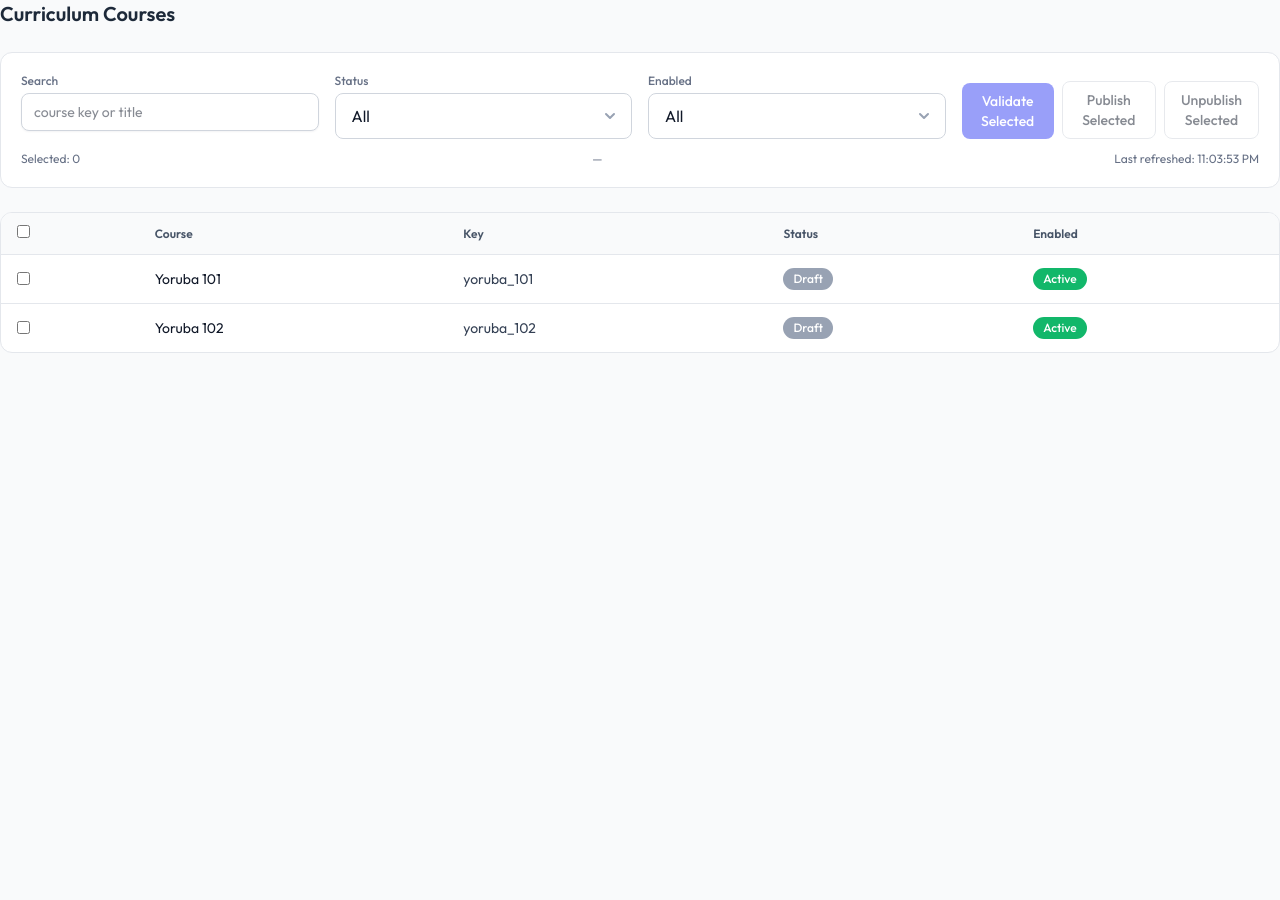
Test case: CurriculumCoursesListPage › requires confirmation before bulk publish, and shows blocked outcomes
Step 1. Click the checkbox named "Select course Yoruba 101" → (24, 278), box [17, 272, 30, 285]
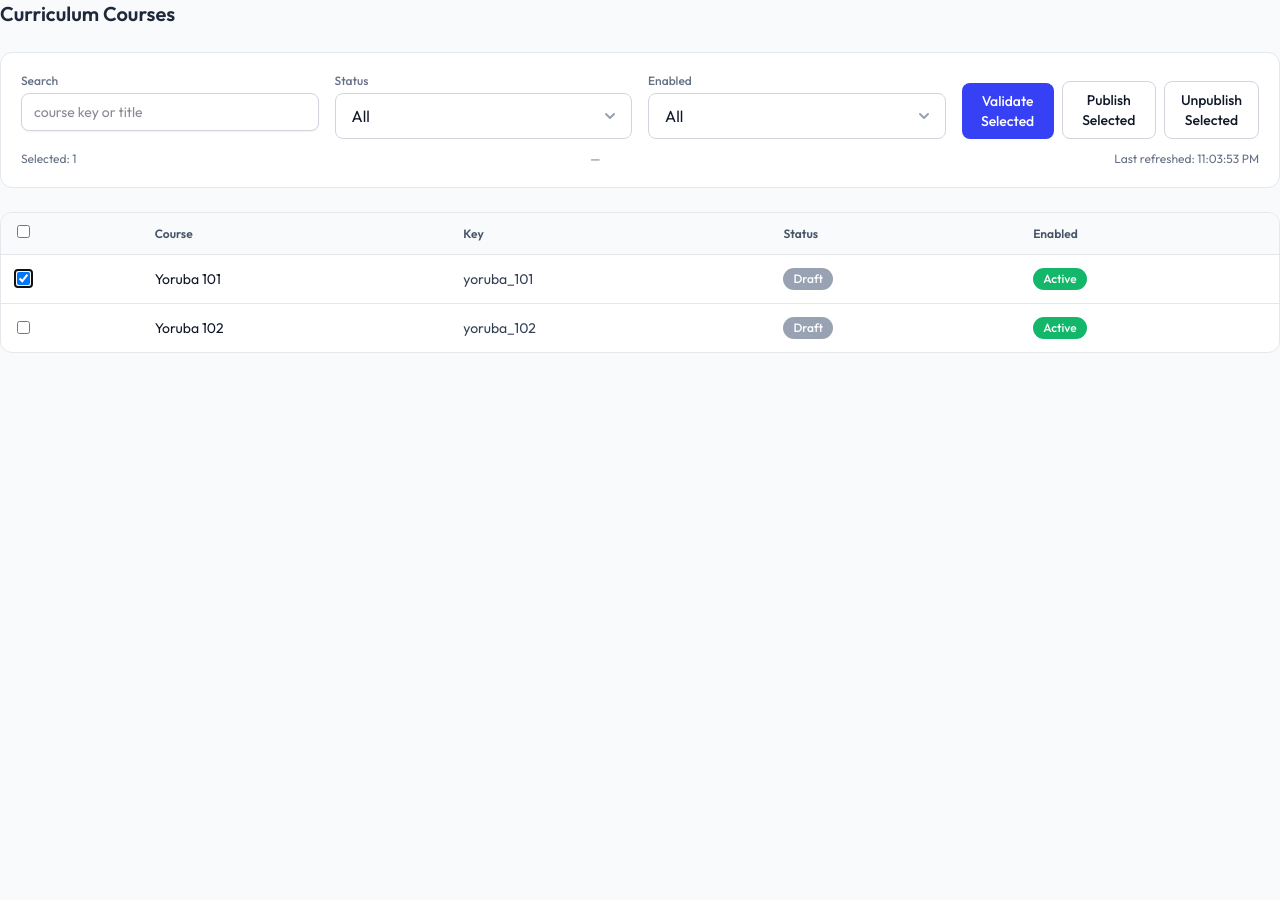
Step 2. Click the checkbox named "Select course Yoruba 102" → (24, 328), box [17, 321, 30, 334]
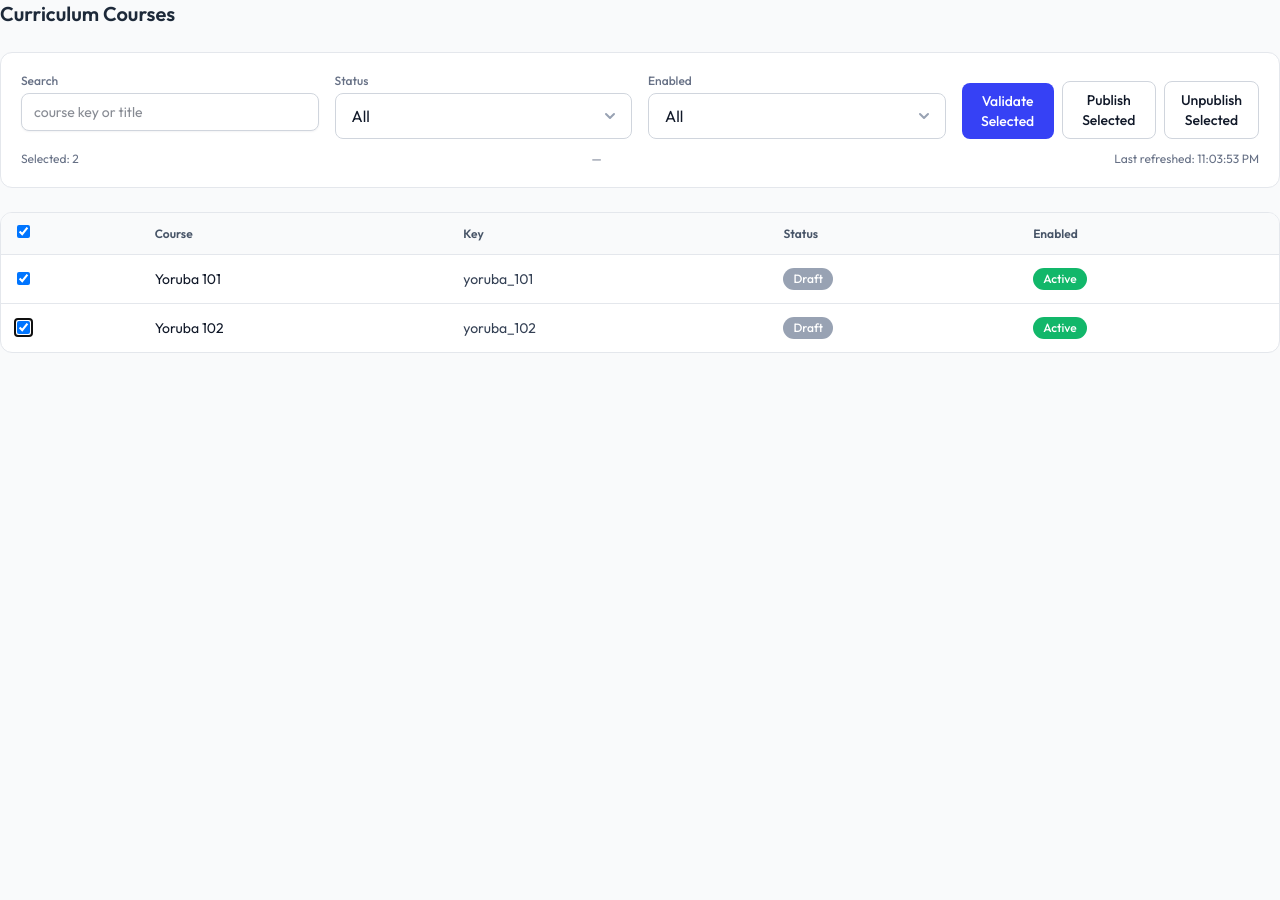
Step 3. Click the button "Publish Selected" → (1109, 110), box [1062, 81, 1156, 139]
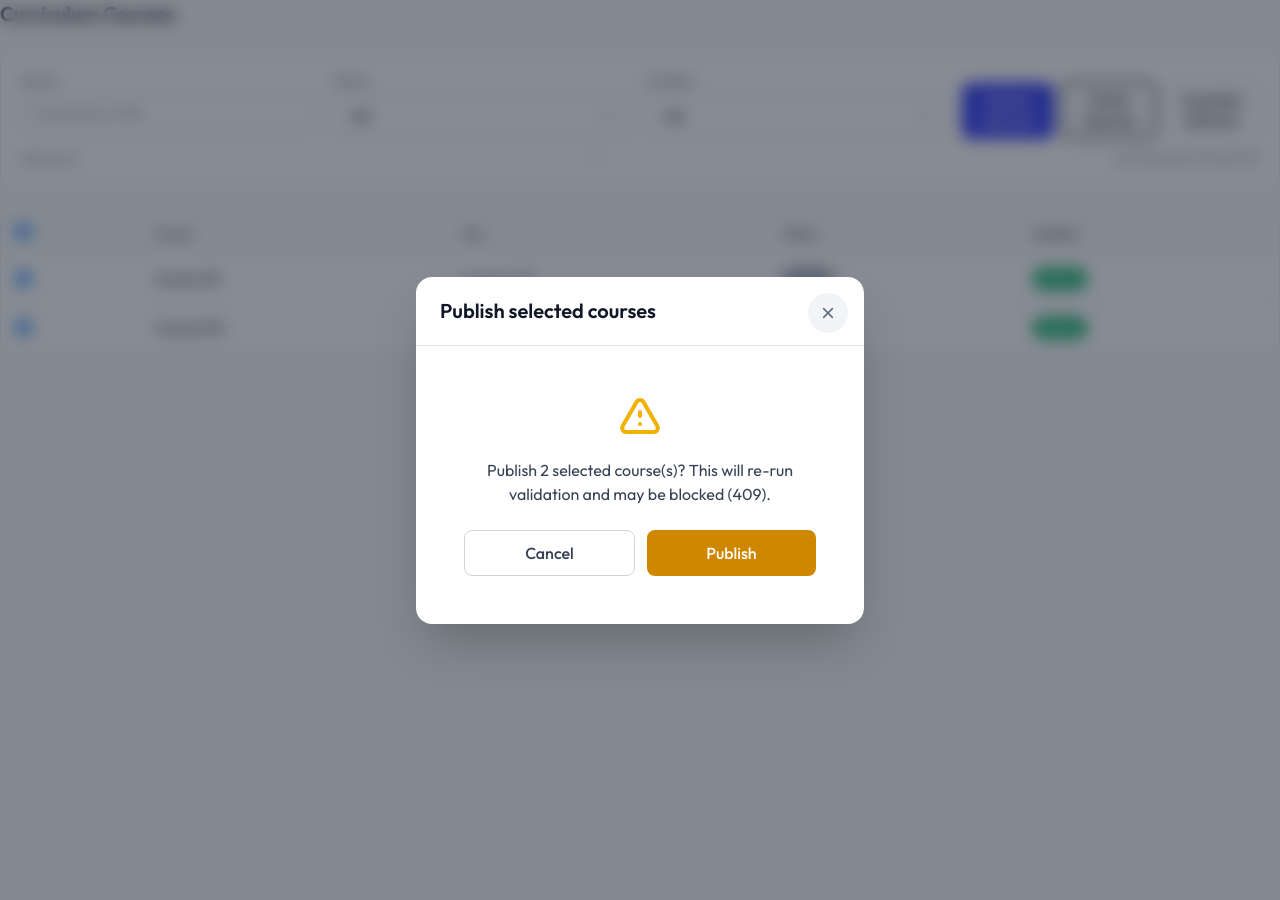
Check: the heading "Publish selected courses" is shown, box [440, 298, 656, 322]
Step 4. Click the button "Publish" → (732, 552), box [647, 530, 816, 576]
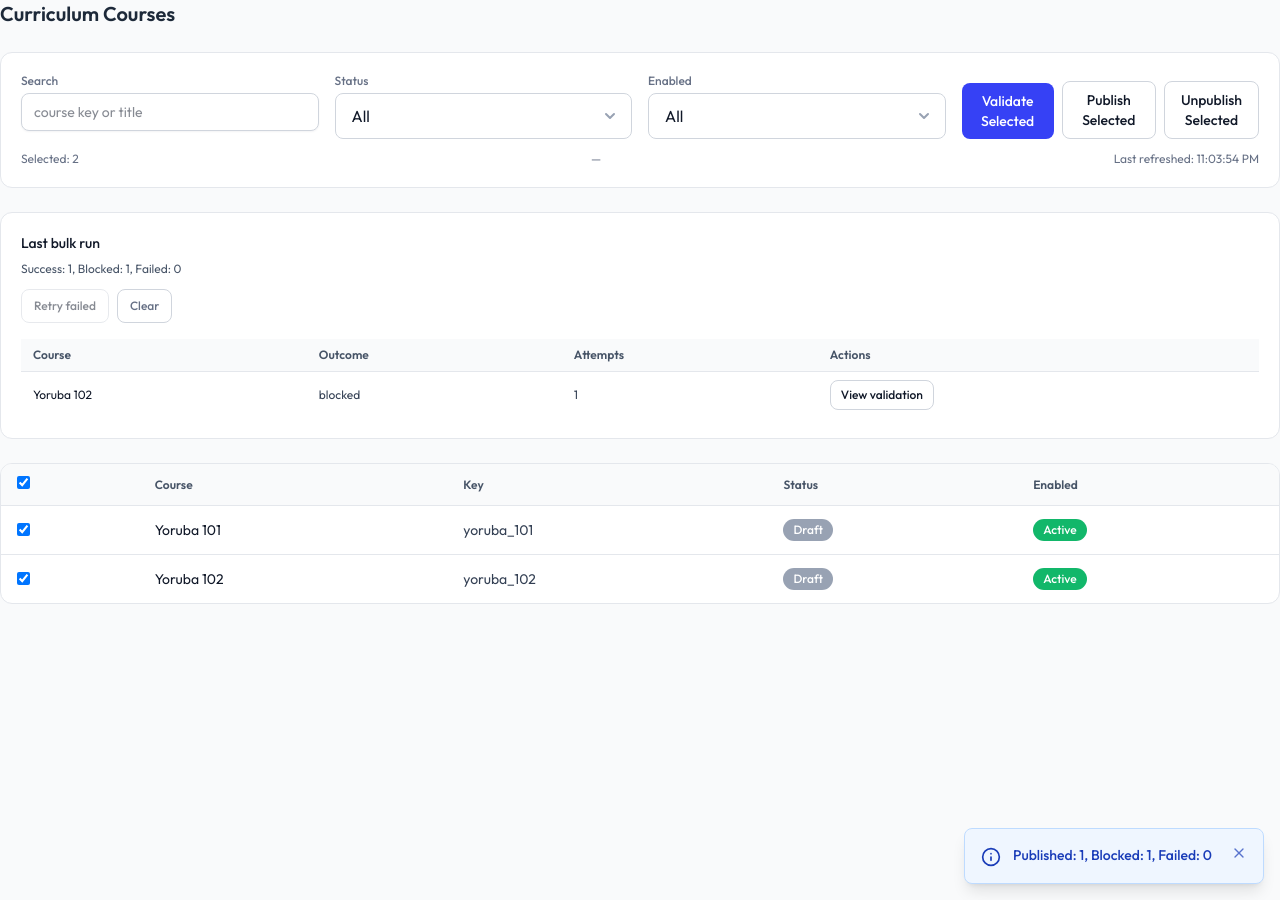
Check: the text "Last bulk run" is shown, box [21, 234, 100, 252]
Check: the text "Success: 1, Blocked: 1, Failed: 0" is shown, box [21, 261, 181, 276]
